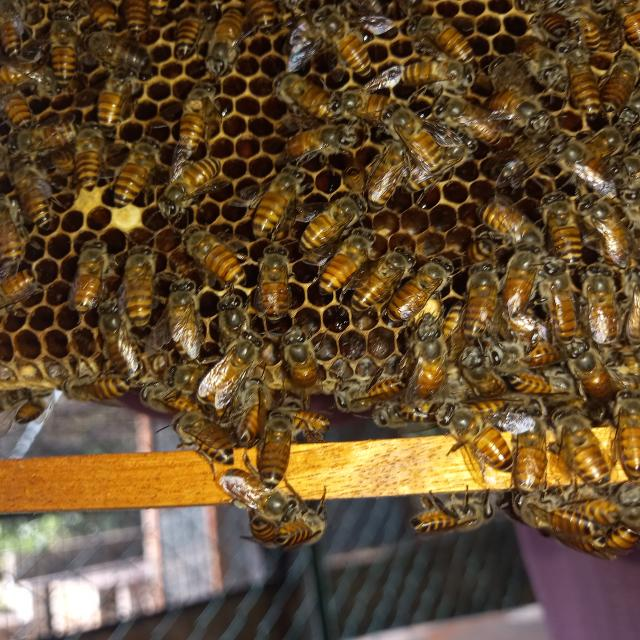honeybee: (285, 11, 399, 79), (434, 399, 521, 479), (549, 405, 611, 496), (383, 104, 465, 167), (200, 325, 256, 417), (344, 243, 414, 314), (545, 136, 620, 198), (574, 190, 632, 269), (10, 169, 74, 238), (213, 461, 295, 514), (507, 392, 551, 489), (478, 92, 560, 144), (474, 196, 547, 253), (390, 255, 451, 322), (579, 259, 628, 341), (318, 226, 380, 290), (278, 74, 348, 128), (165, 414, 239, 465), (167, 276, 210, 360), (509, 371, 581, 421), (403, 495, 496, 533), (85, 32, 148, 88), (295, 192, 361, 245), (116, 137, 166, 206), (366, 133, 410, 211), (251, 162, 299, 233), (540, 194, 584, 271), (164, 160, 222, 218), (246, 508, 330, 548), (371, 60, 481, 90), (180, 234, 246, 283), (337, 81, 405, 128), (276, 126, 363, 162), (570, 341, 614, 411), (498, 249, 542, 319), (565, 56, 607, 128), (177, 81, 216, 158), (72, 239, 110, 318), (46, 3, 82, 86), (0, 382, 54, 436), (206, 9, 244, 85), (348, 364, 413, 408), (124, 245, 158, 328), (550, 272, 586, 348), (422, 18, 487, 60), (95, 66, 133, 137), (258, 416, 295, 488), (409, 329, 446, 400), (235, 374, 273, 443), (368, 397, 452, 428), (468, 260, 502, 336), (454, 348, 505, 398), (255, 242, 289, 316), (22, 119, 79, 163), (278, 330, 319, 391), (524, 42, 576, 88), (63, 374, 133, 408), (617, 380, 640, 481), (534, 501, 606, 533), (70, 126, 108, 184), (3, 56, 52, 96), (606, 56, 640, 112), (218, 293, 252, 346), (0, 208, 27, 274), (596, 514, 640, 552), (492, 54, 531, 96), (4, 86, 38, 134), (152, 387, 202, 414), (272, 517, 316, 547), (124, 2, 160, 38), (287, 413, 336, 438), (0, 14, 26, 61), (616, 0, 640, 45), (629, 271, 640, 365), (178, 19, 204, 58), (527, 341, 566, 365), (250, 0, 276, 35), (538, 17, 577, 39), (93, 0, 116, 35), (248, 510, 270, 542), (577, 20, 602, 47)
